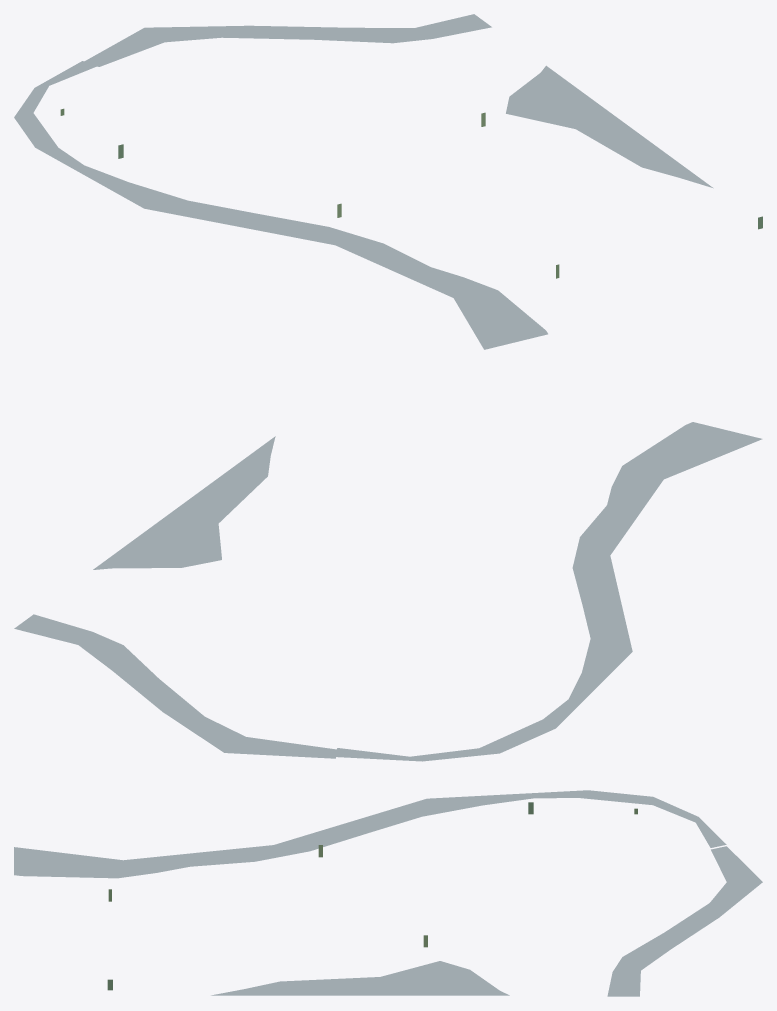
3 views of the same model, one above another, from view 1: azimuth 30°, elevation 25°; view 2: azimuth 150°, elevation 25°; view 3: azimuth 270°, elevation 25° (orthographic). The views are drawn at different scales.
Bounding box in the file's own units: 277 × 9.36 × 427.
